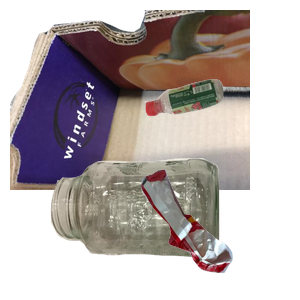cardboard: (10, 10, 250, 190)
glass: (48, 156, 260, 300)
plastic: (142, 77, 300, 186)
trash: (139, 167, 300, 300)
